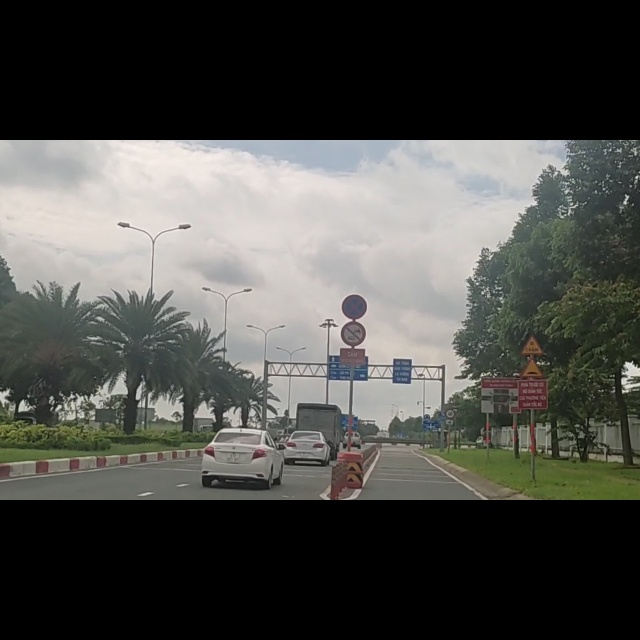bien_cam: (341, 269, 367, 320), (339, 322, 367, 366), (520, 343, 544, 382), (521, 388, 544, 422)
